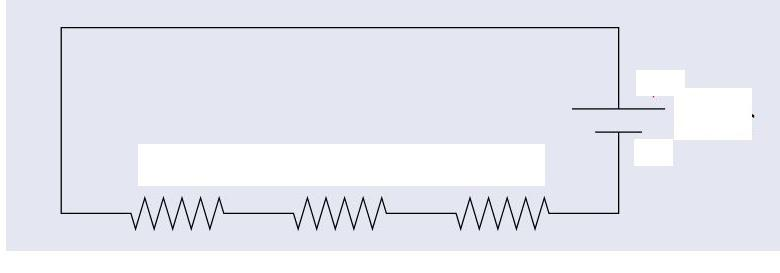resistor: (273, 187, 411, 234), (103, 185, 240, 231), (446, 182, 562, 232)
